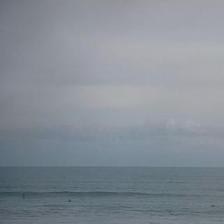surfer: (67, 199, 72, 202), (22, 192, 25, 196), (210, 204, 216, 206)
